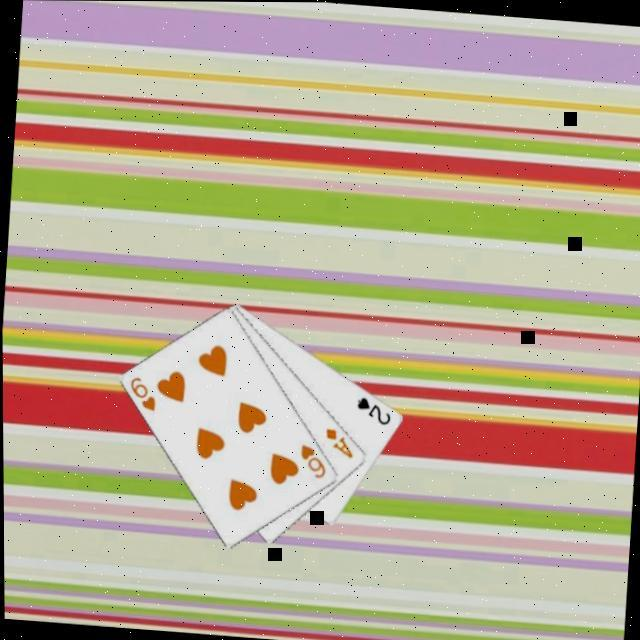2S: (350, 394, 392, 429)
6H: (122, 374, 158, 416), (292, 442, 328, 482)
AD: (318, 426, 354, 462)
